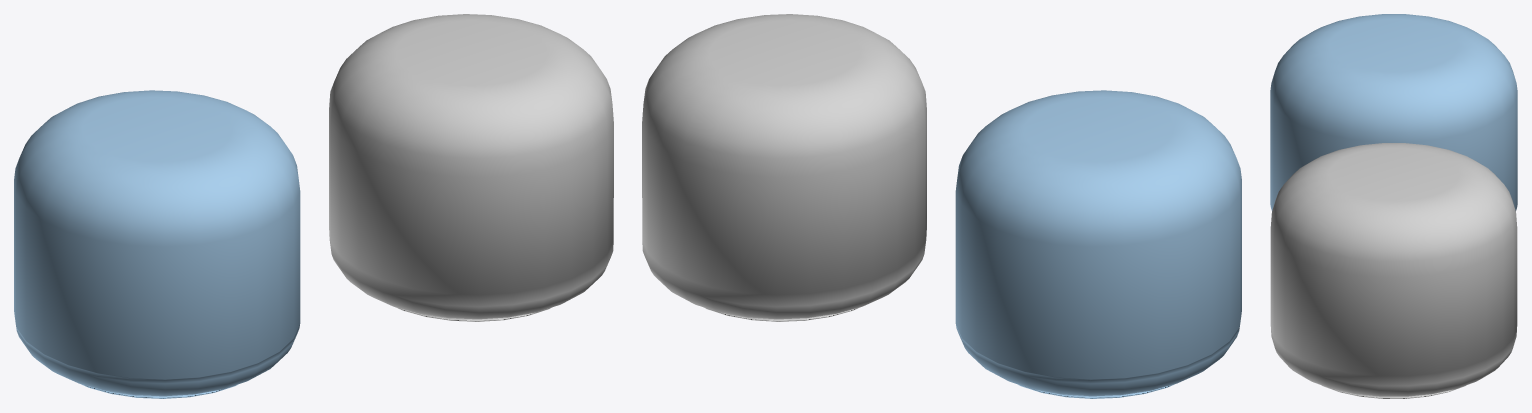
The model's file is home3.gltf.glb.
The picture shows the model from 3 angles, left to right: view 1: azimuth 30°, elevation 25°; view 2: azimuth 150°, elevation 25°; view 3: azimuth 270°, elevation 25°; orthographic projection. The views are drawn at different scales.
Parts seen in each view (by area): view 1: Cylinder, Main; view 2: Cylinder, Main; view 3: Main, Cylinder.
Part boxes in pixels (x1,y1,x2,y2): Cylinder: (14,90,300,398); Main: (329,14,613,321); Cylinder: (955,90,1241,398); Main: (642,14,926,321); Main: (1270,143,1517,398); Cylinder: (1270,14,1517,210).
Size of what is drawn, in the model's own units: 5.93 by 2.26 by 2.71.
